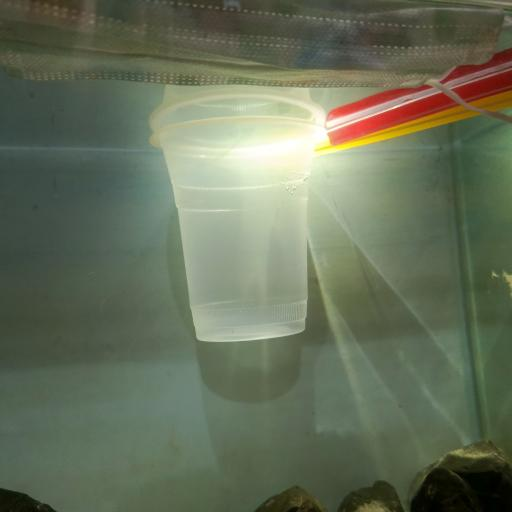mask: (2, 0, 504, 90)
plastic_cup: (147, 115, 333, 345)
plastic_straw: (328, 45, 512, 145), (315, 90, 511, 154)
